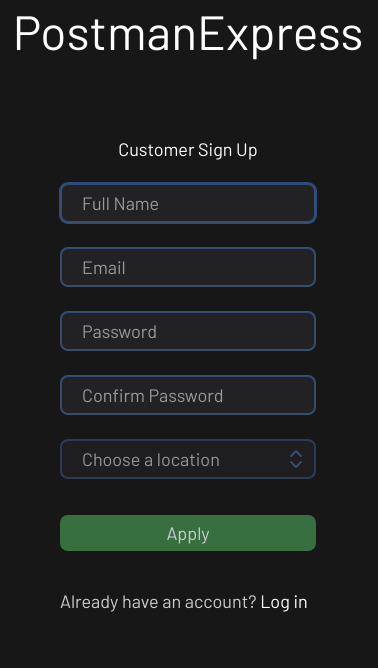
Test: Signup Form › It displays required fields if submit is pressed with empty fields
The image size is (378, 668).
What coordinates should you click on to do the following:
click the button
I would click on:
 (188, 533)
Its box is [60,515,316,551].
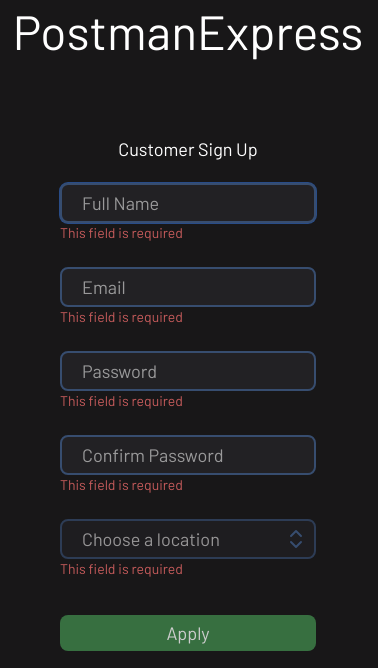
Expected: the text "This field is required" is shown 5 times, [60,223,183,243]; [60,307,183,327]; [60,391,183,411]; [60,475,183,495]; [60,560,183,577]
